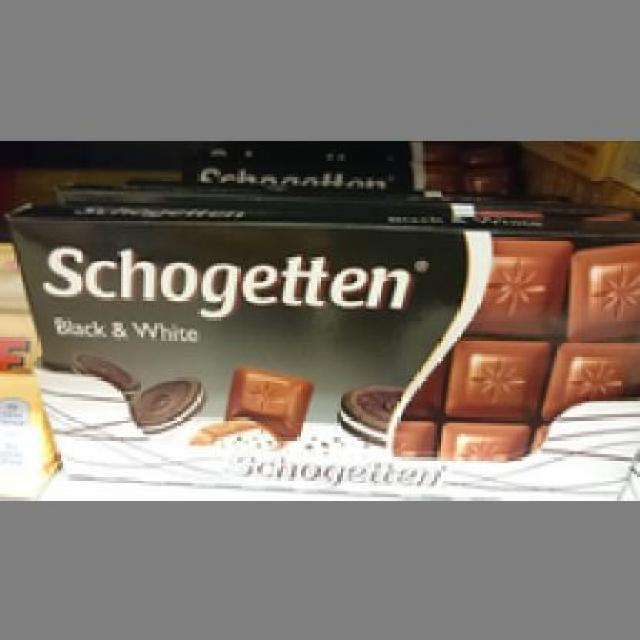Chocolate: (5, 200, 638, 466)
